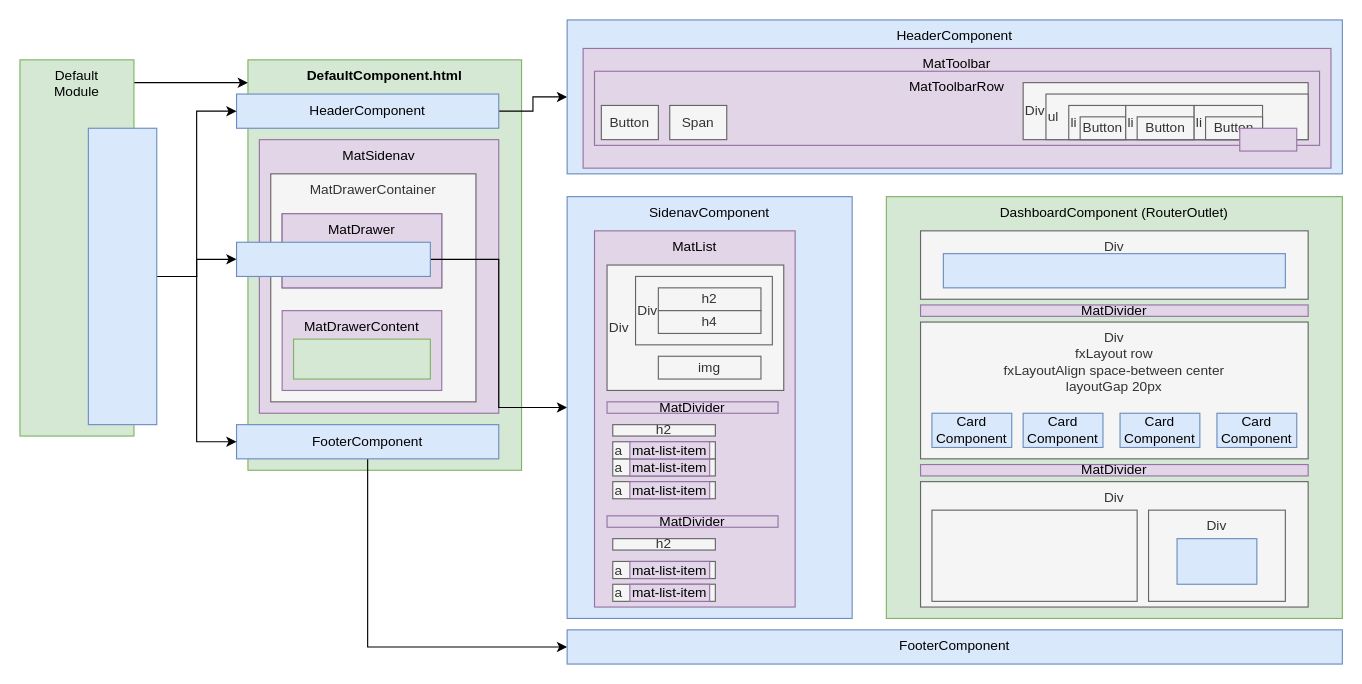
The diagram is 1362 pixels wide and 684 high, and some of its shapes have lost their labels. Each missing label, with the centre of its shape:
AreaComponent: (x=1113, y=270)
MatMenu: (x=1268, y=139)
Pie Component: (x=1216, y=561)
RouterOutlet: (x=361, y=358)
Shared Module: (x=122, y=276)
Sidebar Component: (x=332, y=258)
Table: (x=1034, y=555)
